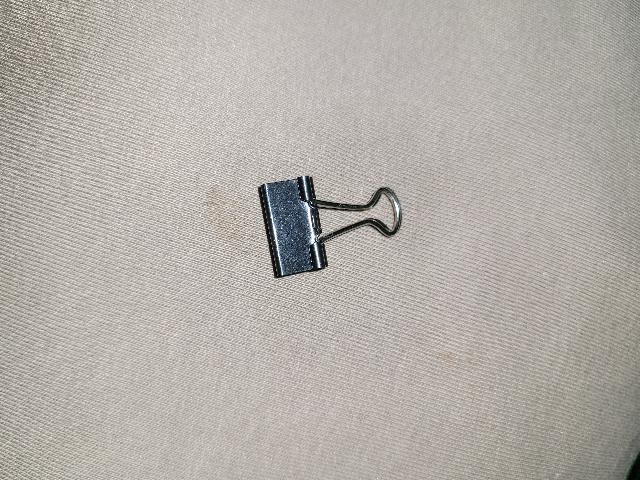Metal: (255, 174, 405, 286)
